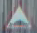Speed Breaker ahead: (2, 3, 36, 31)
